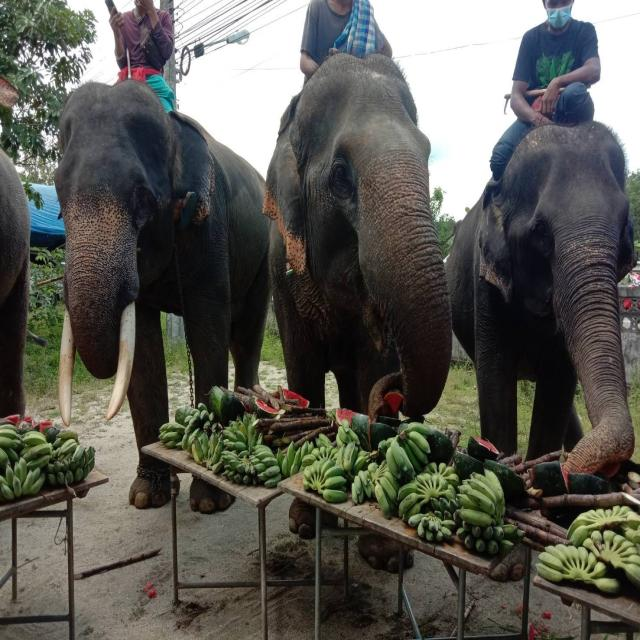Elephant: (51, 75, 276, 519), (262, 36, 461, 528)
